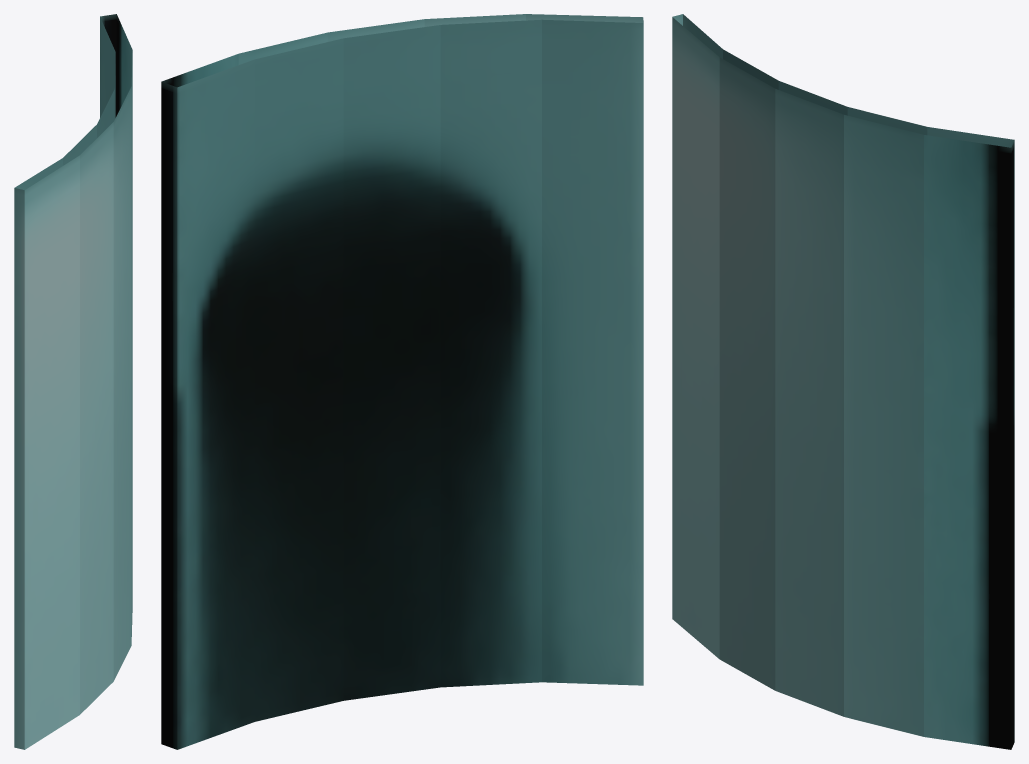
Rendered from structure_04.glb.
The picture shows the model from 3 angles, left to right: view 1: azimuth 30°, elevation 25°; view 2: azimuth 150°, elevation 25°; view 3: azimuth 270°, elevation 25°; orthographic projection. The views are drawn at different scales.
Parts seen in each view (by area): view 1: Structure.003; view 2: Structure.003; view 3: Structure.003.
Boxes of the visible parts, x1,y1,x2,y2 form: Structure.003: [14, 14, 132, 749]; Structure.003: [161, 14, 643, 749]; Structure.003: [672, 14, 1014, 749].
Size of the model in its own units: 1.65 by 3.47 by 1.79.
1 material, 1 textured.
